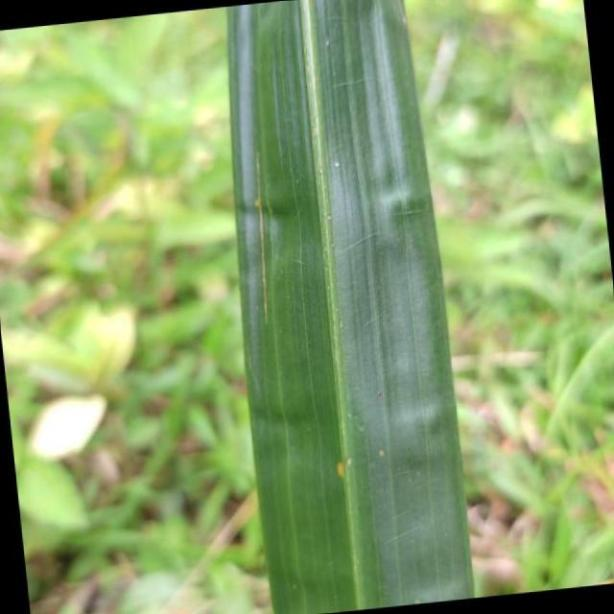Boron: (225, 0, 474, 604)
